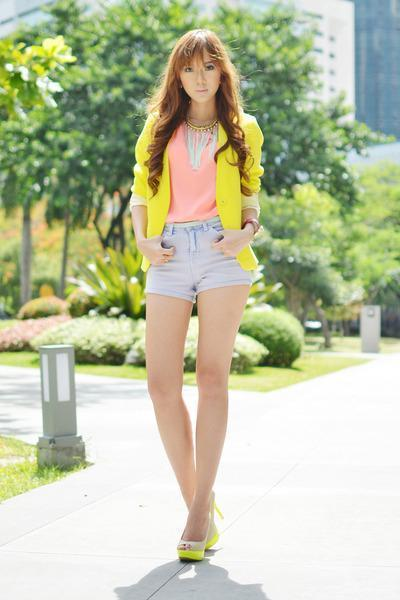jacket: (132, 108, 275, 270)
shirt: (165, 128, 218, 223)
shoe: (168, 531, 217, 563)
shorts: (144, 216, 263, 299)
